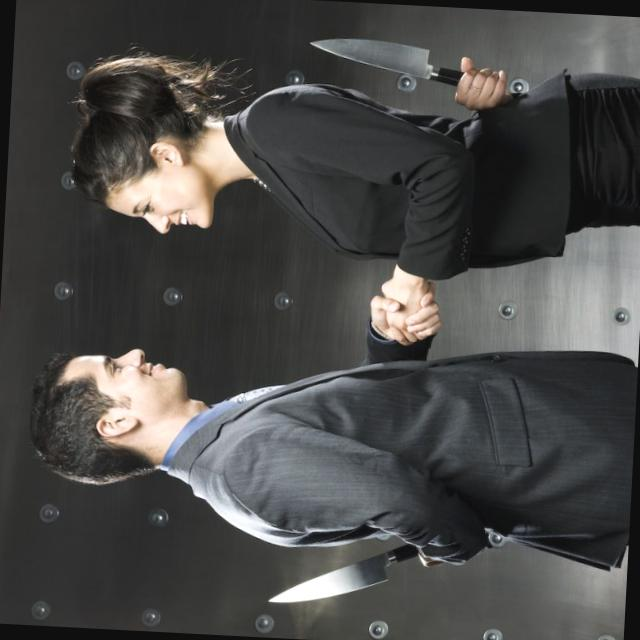knife: (299, 30, 506, 116), (262, 530, 426, 616)
